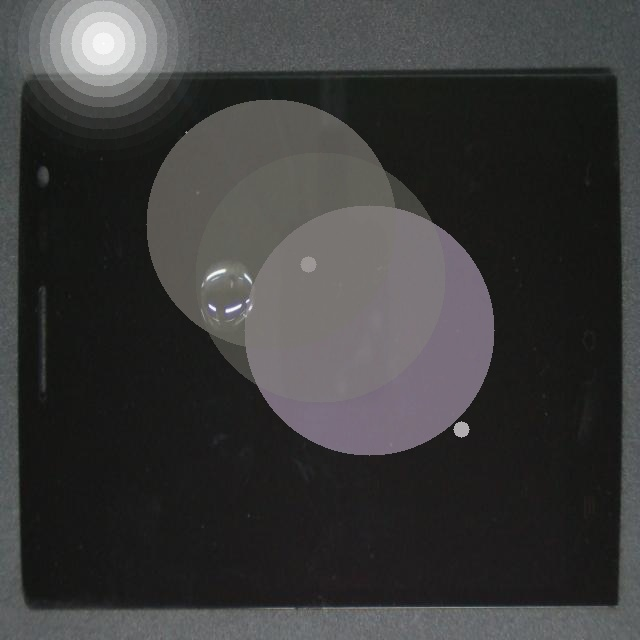oil: (130, 134, 348, 395)
